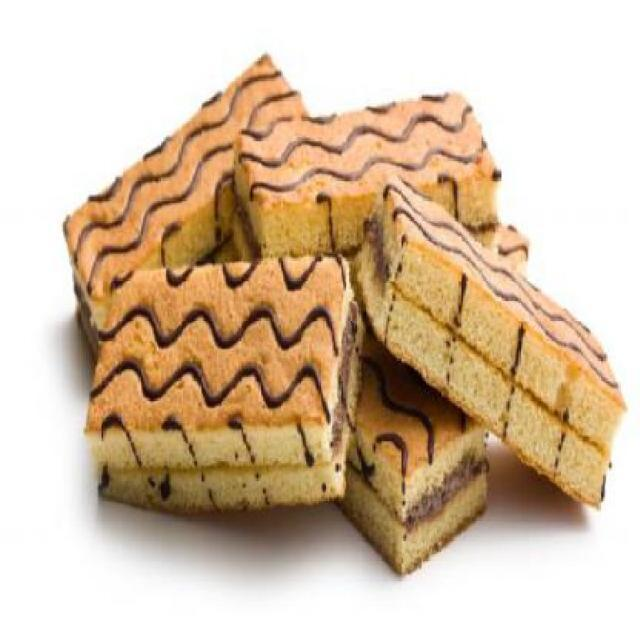Merendine packaged: (359, 172, 630, 520), (86, 248, 363, 518), (67, 52, 310, 338), (232, 94, 504, 292)
